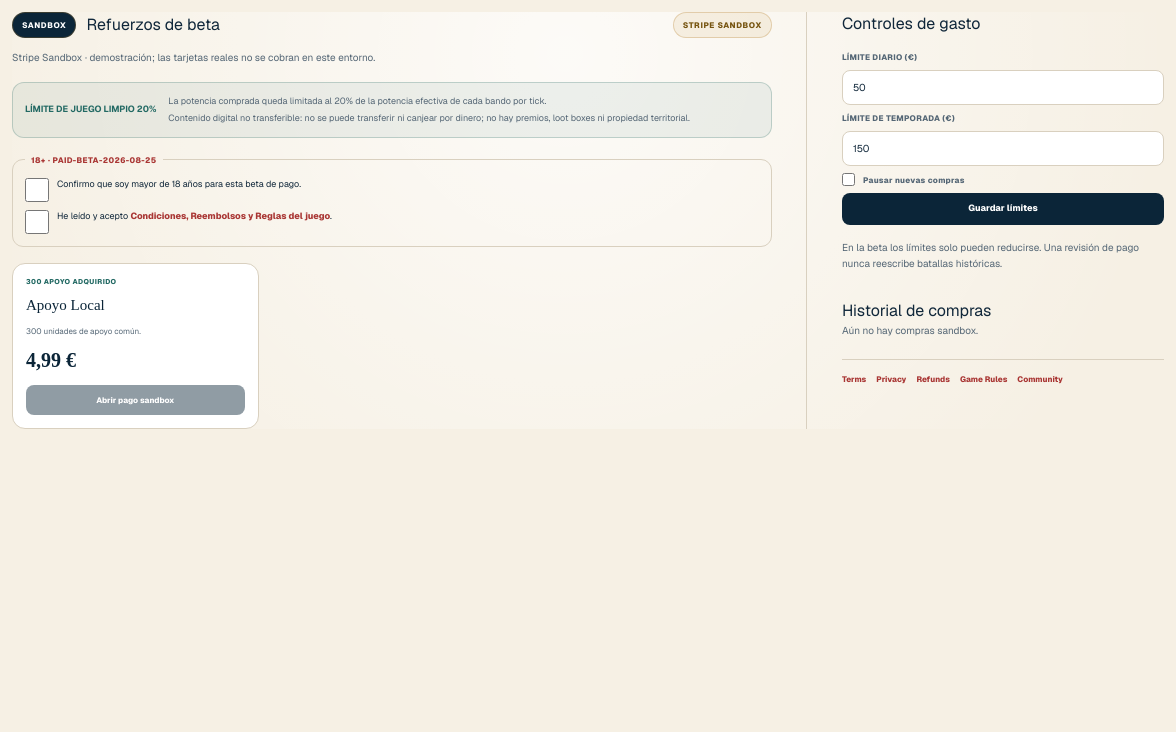
PaymentPanel › fails closed when checkout returns an untrusted redirect origin
The image size is (1176, 732).
Click the checkbox labelled "Confirmo que soy mayor de 18 años para esta beta de pago.": (37, 190) [25,178,49,202]
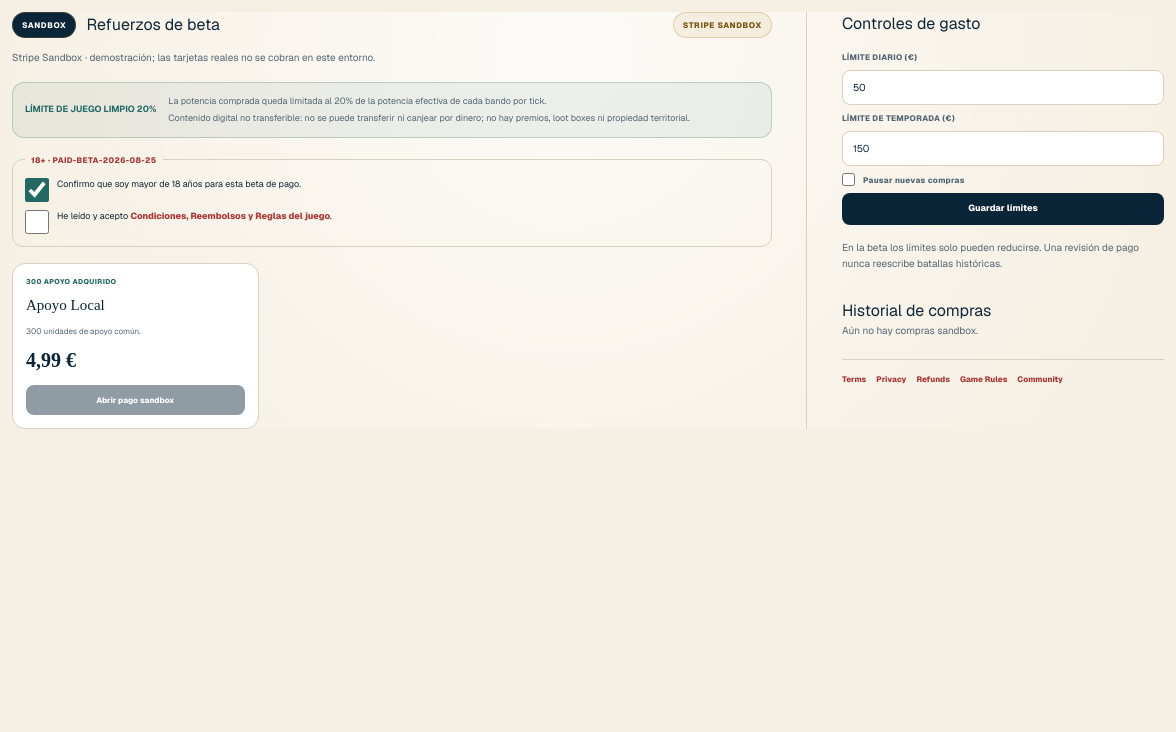
Click the checkbox labelled "Condiciones, Reembolsos": (37, 222) [25,210,49,234]
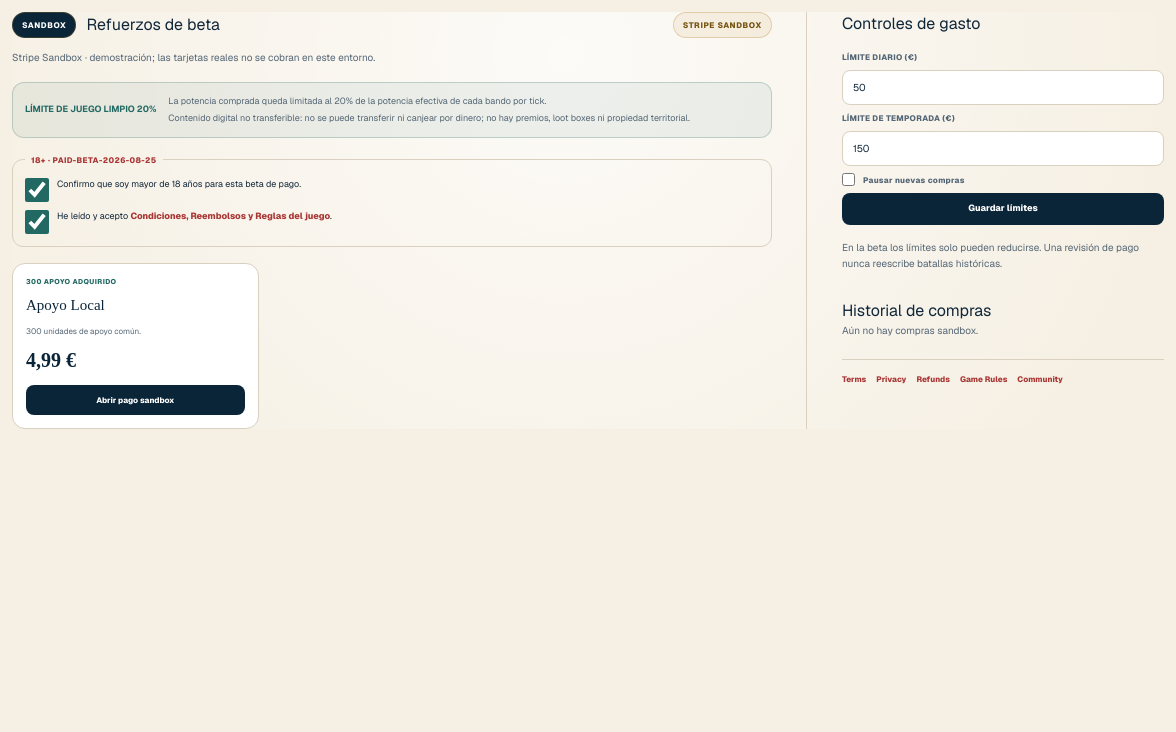
Click the button "Abrir pago sandbox": (135, 400) [26,385,245,415]
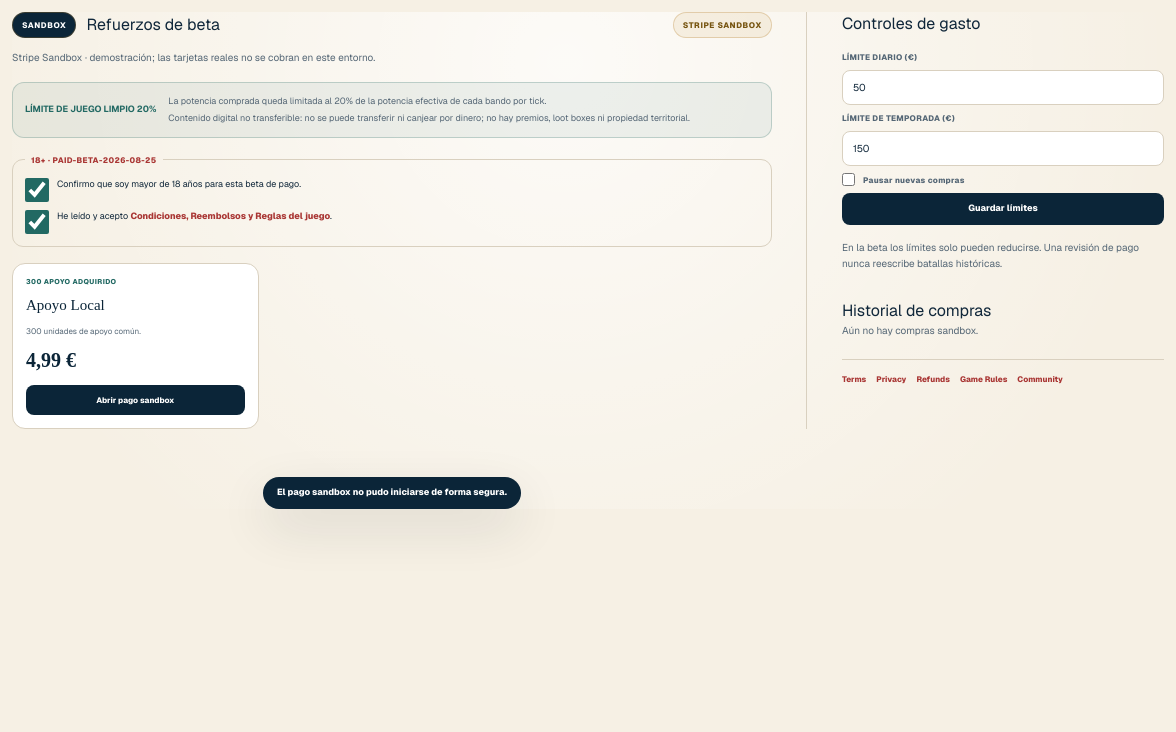
Expected: the message shows "no pudo iniciarse", [277,486,507,498]
